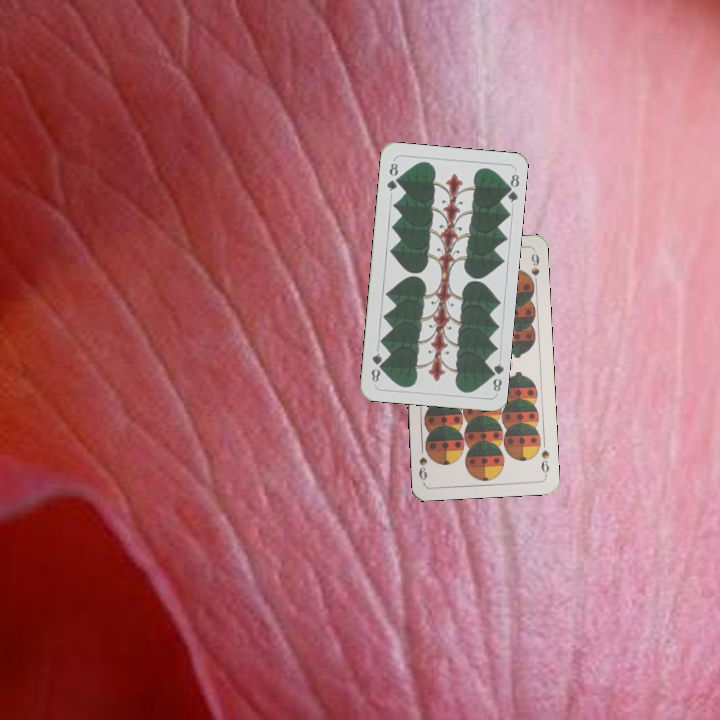G8: (485, 359, 506, 394), (382, 157, 401, 194)
S9: (537, 446, 552, 478)
